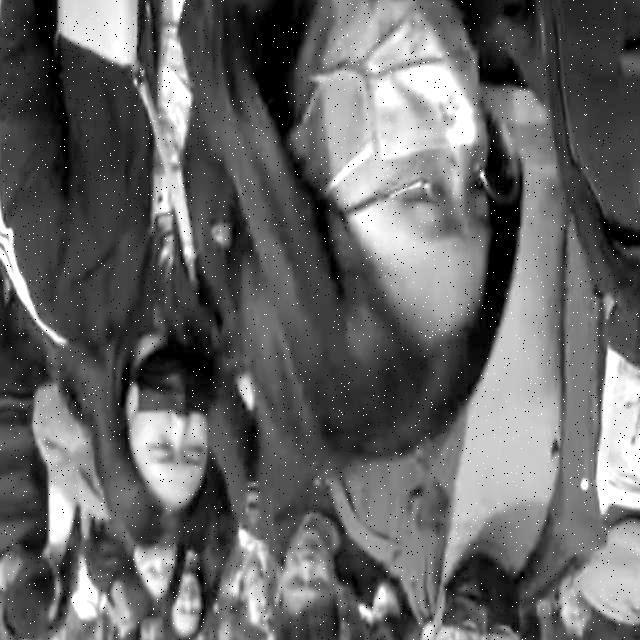hairnet: (128, 340, 206, 430)
